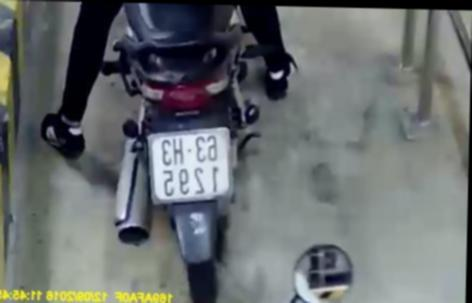License_Plate: (142, 122, 237, 208)
